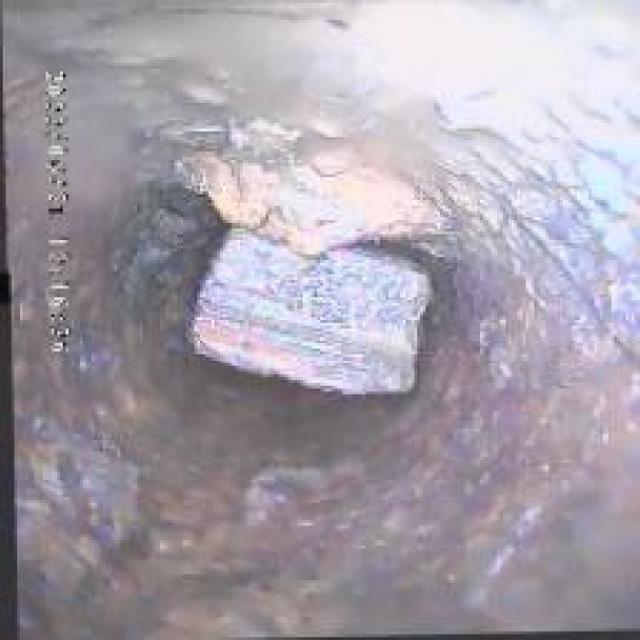stone: (168, 214, 432, 400)
